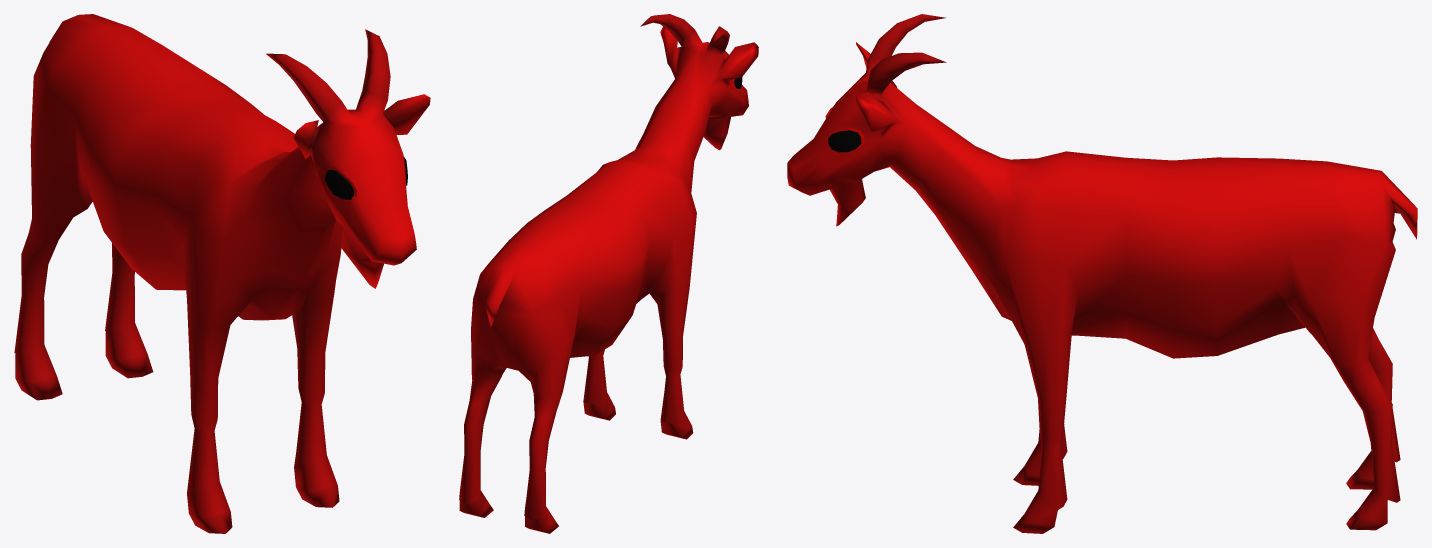
The model's file is Animals_Goat.fbx.
The picture shows the model from 3 angles, left to right: view 1: azimuth 30°, elevation 25°; view 2: azimuth 150°, elevation 25°; view 3: azimuth 270°, elevation 25°; orthographic projection. The views are drawn at different scales.
Visible parts, largest first — view 1: base; view 2: base; view 3: base.
Boxes of the visible parts, box(x1,y1,x2,y2) form: base: box(14, 14, 430, 533); base: box(459, 14, 758, 533); base: box(787, 14, 1417, 533).
Bounding box in the file's own units: 32.75 × 102 × 124.
